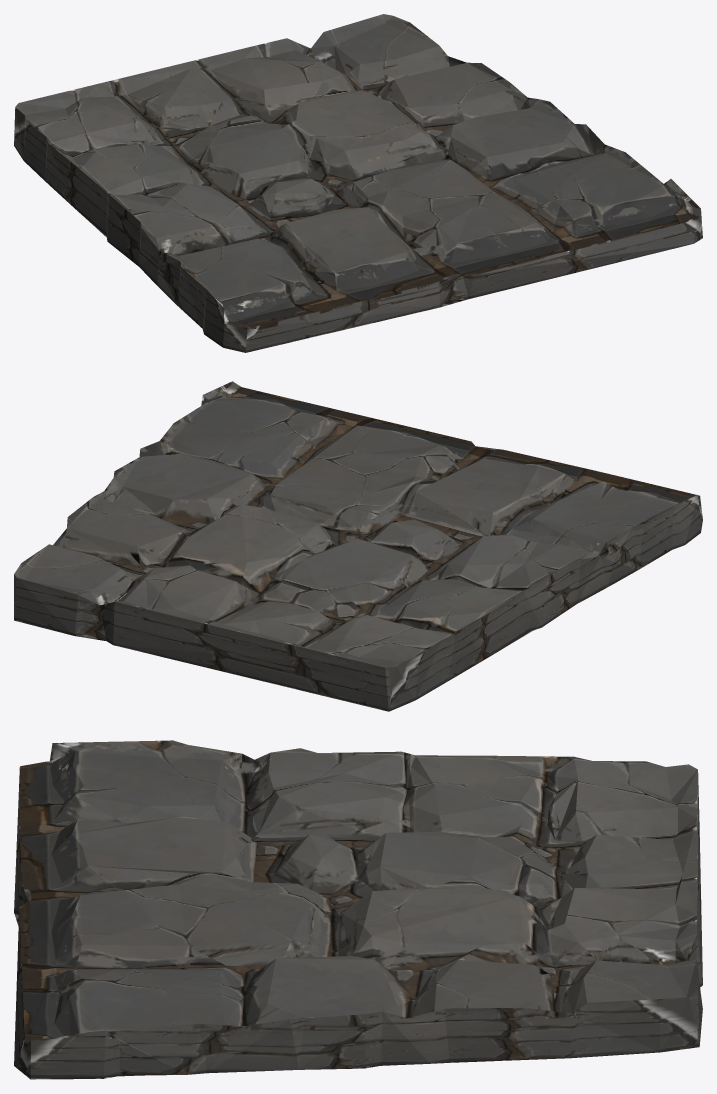
File: SM_Dungeon_Floor_A_LOD1.glb
3 renders of one model, top to bottom at view 1: azimuth 30°, elevation 25°; view 2: azimuth 150°, elevation 25°; view 3: azimuth 270°, elevation 25°, orthographic. The views are drawn at different scales.
Parts seen in each view (by area): view 1: SM_Dungeon_Floor_A_LOD1; view 2: SM_Dungeon_Floor_A_LOD1; view 3: SM_Dungeon_Floor_A_LOD1.
Boxes of the visible parts, <box> form: SM_Dungeon_Floor_A_LOD1: <box>14,14,702,352</box>; SM_Dungeon_Floor_A_LOD1: <box>14,381,702,711</box>; SM_Dungeon_Floor_A_LOD1: <box>14,740,702,1079</box>.
Bounding box in the file's own units: 4 × 0.3564 × 4.01.
1 material, 1 textured.
